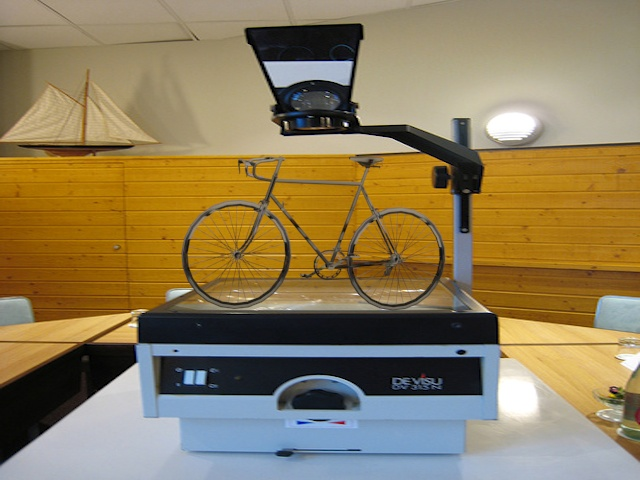bike: (177, 145, 448, 320)
